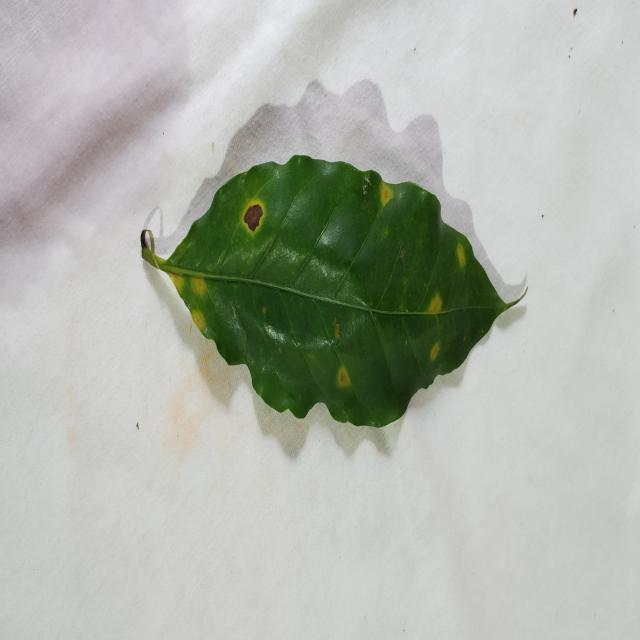Enfermedad-Roya: (140, 156, 530, 433)
